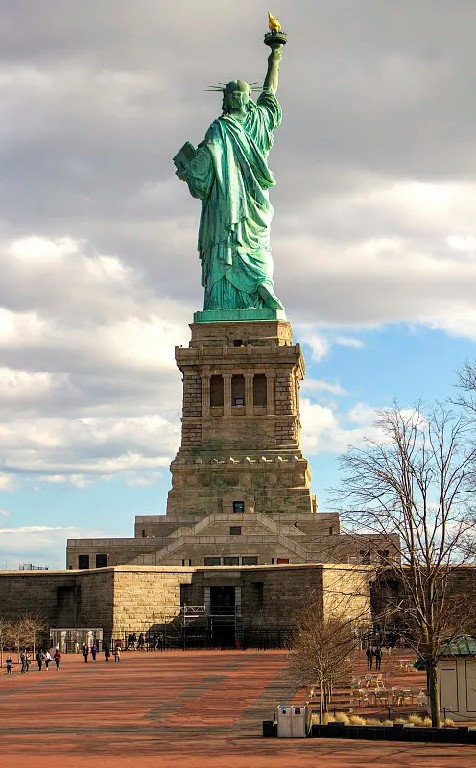SL: (166, 9, 319, 513)
